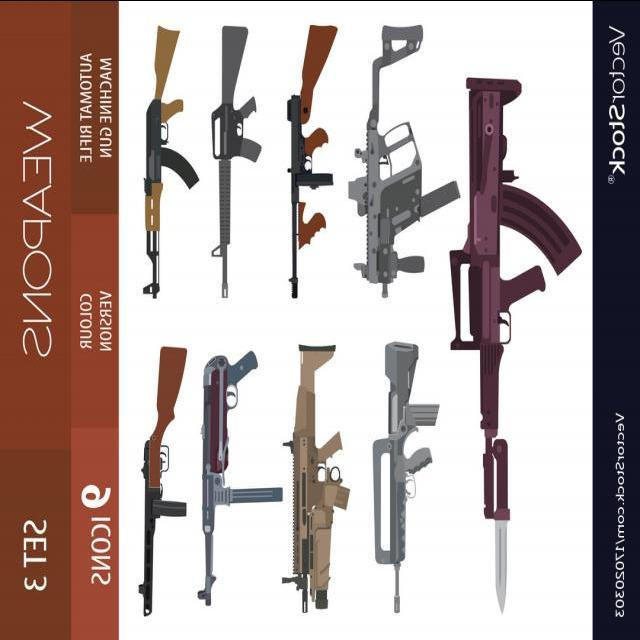knife: (493, 491, 523, 628)
rifle: (454, 70, 569, 511), (282, 328, 360, 617), (134, 18, 204, 318), (285, 14, 348, 299), (371, 350, 438, 617), (215, 22, 267, 301)
rocket launcher: (313, 498, 334, 629)
scope: (352, 156, 368, 241)
smg: (364, 11, 457, 300), (193, 336, 271, 603), (133, 335, 197, 619)
